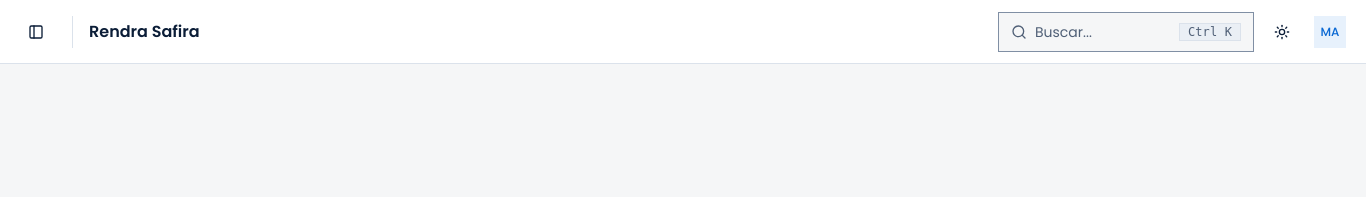
Test: Header › troca o modo de cor pelo menu Tema do header
Step 1. Click the button named "Tema" → (1282, 32), box [1262,12,1302,52]
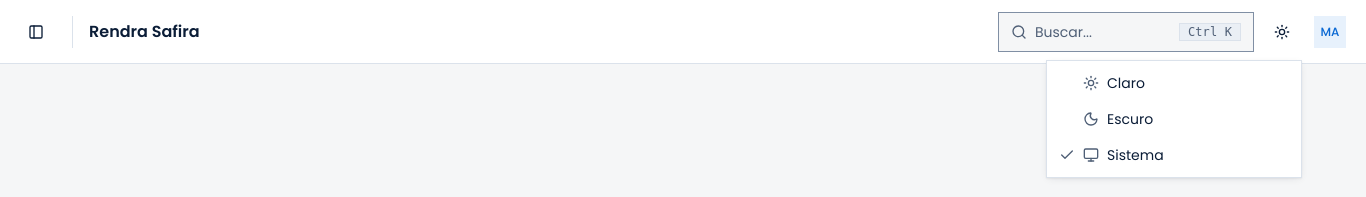
Check: the menu item "Escuro" is shown, box [1083,109,1153,129]
